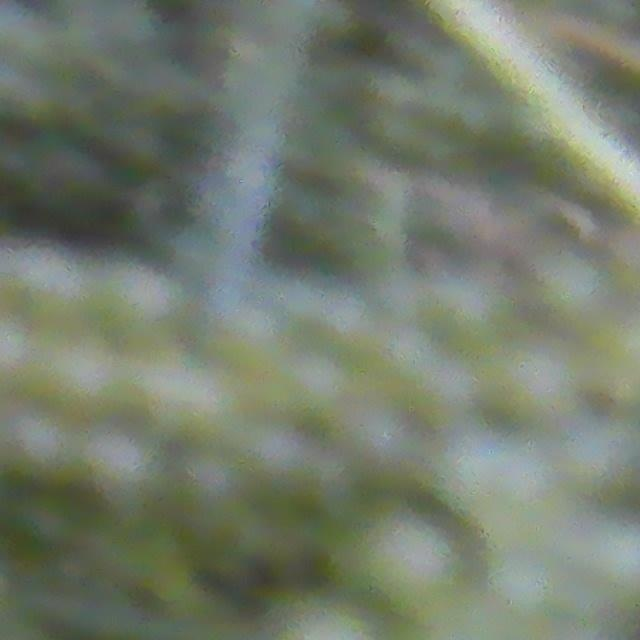SeaGrape: (362, 512, 459, 609), (40, 330, 131, 425), (137, 356, 231, 440), (95, 266, 185, 351), (342, 396, 427, 484), (235, 414, 318, 500), (0, 246, 83, 327), (196, 293, 277, 372), (82, 434, 165, 507), (539, 251, 613, 327), (4, 412, 84, 482), (485, 548, 561, 618), (284, 357, 356, 424), (585, 529, 640, 604)
